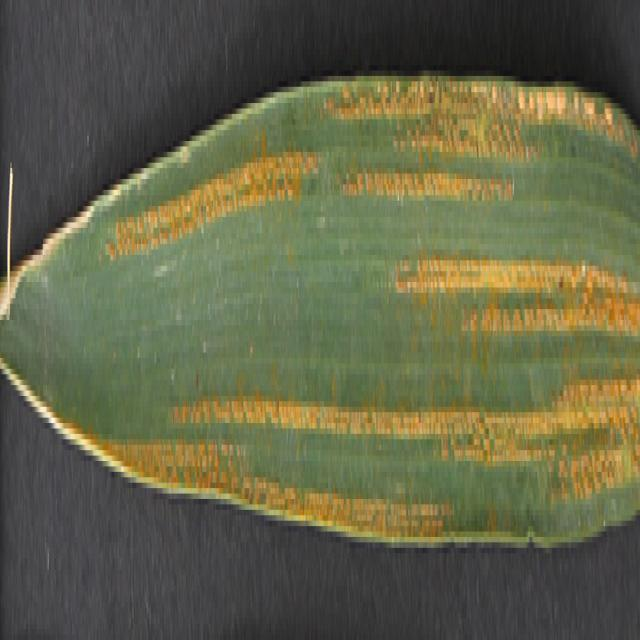leaf rust: (84, 103, 640, 559)
